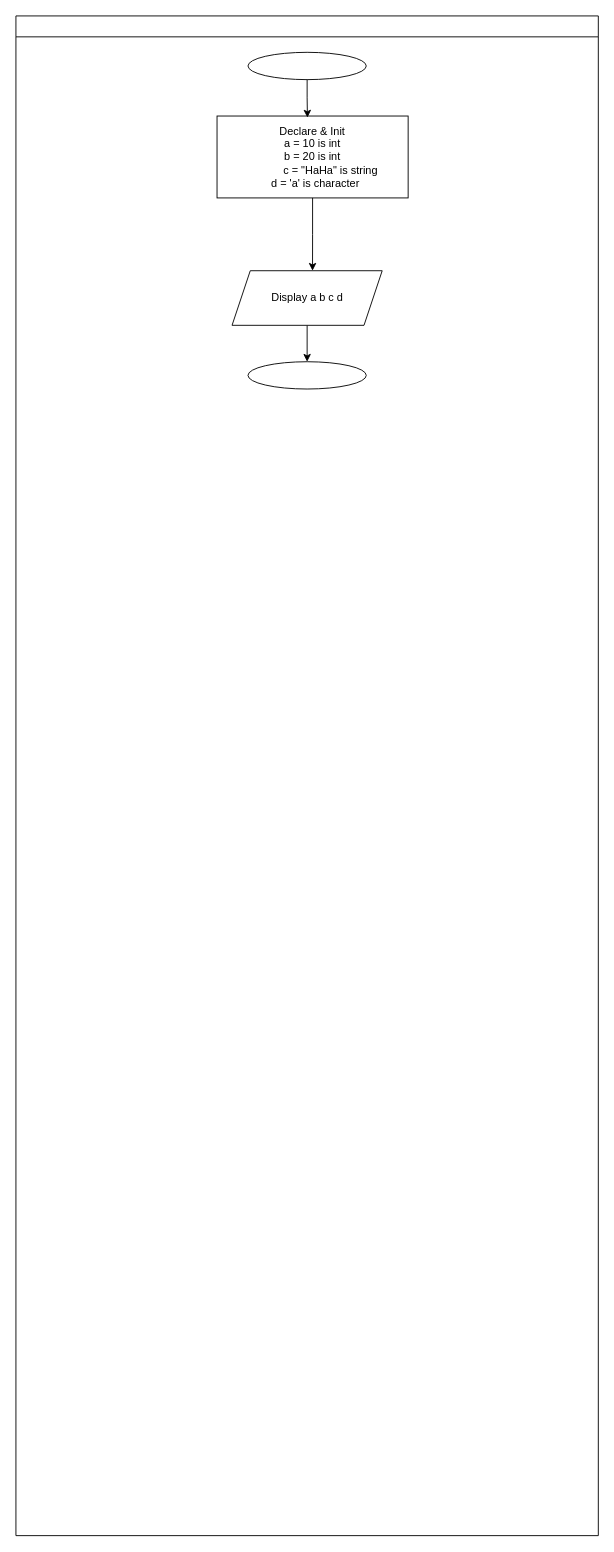
This 614x1552 diagram has some shape labels left out. Here are the shapes that lost their labels. From the top down, the centre of each, then its label:
At [306,65]: "Start".
At [306,375]: "End".
